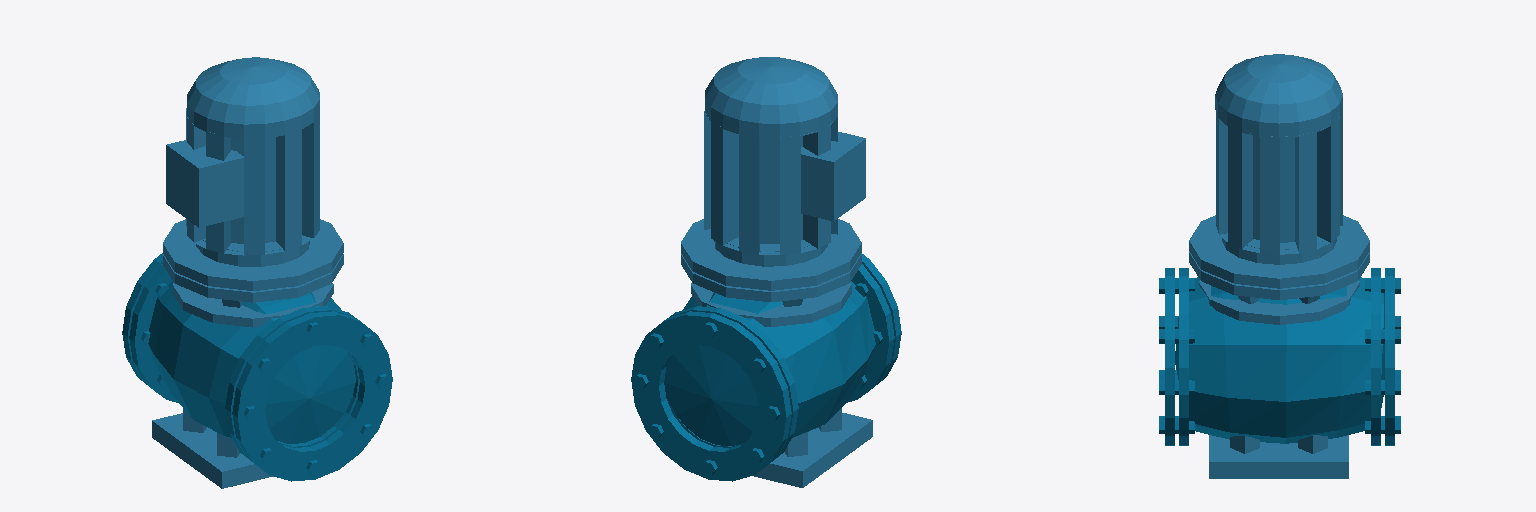
File: flush_the_pump.obj
The picture shows the model from 3 angles: view 1: azimuth 30°, elevation 25°; view 2: azimuth 150°, elevation 25°; view 3: azimuth 270°, elevation 25°; orthographic projection.
Parts seen in each view (by area): view 1: __.7, __.2, __, __.4, __.6, ___, ___.1, __.1, __.5, ___2; view 2: __, __.7, __.4, __.6, ___, ___.1, __.1, __.2, __.5, ___1; view 3: __.7, __.4, __, __.6, __.1, ___.1, __.2, __.5.
Part boxes in pixels (x1,y1,x2,y2): __.7: (148,281,355,443); __.2: (129,264,392,481); __: (122,57,359,468); __.4: (186,108,319,255); __.6: (163,219,343,290); ___: (166,140,243,227); ___.1: (152,413,273,488); __.1: (141,283,386,474); __.5: (196,235,309,266); ___2: (144,285,390,474); __: (631,57,894,481); __.7: (664,281,875,445); __.4: (704,111,837,254); __.6: (681,219,861,290); ___: (801,132,865,221); ___.1: (754,413,872,487); __.1: (637,282,882,474); __.2: (666,253,901,468); __.5: (714,237,827,266); ___1: (633,285,879,474); __.7: (1175,277,1384,443); __.4: (1216,111,1342,254); __: (1179,54,1394,445); __.6: (1189,215,1369,288); __.1: (1159,278,1400,433); ___.1: (1209,435,1348,478); __.2: (1165,268,1380,445); __.5: (1222,233,1336,264).
Bounding box in the file's own units: 127 × 283 × 164.